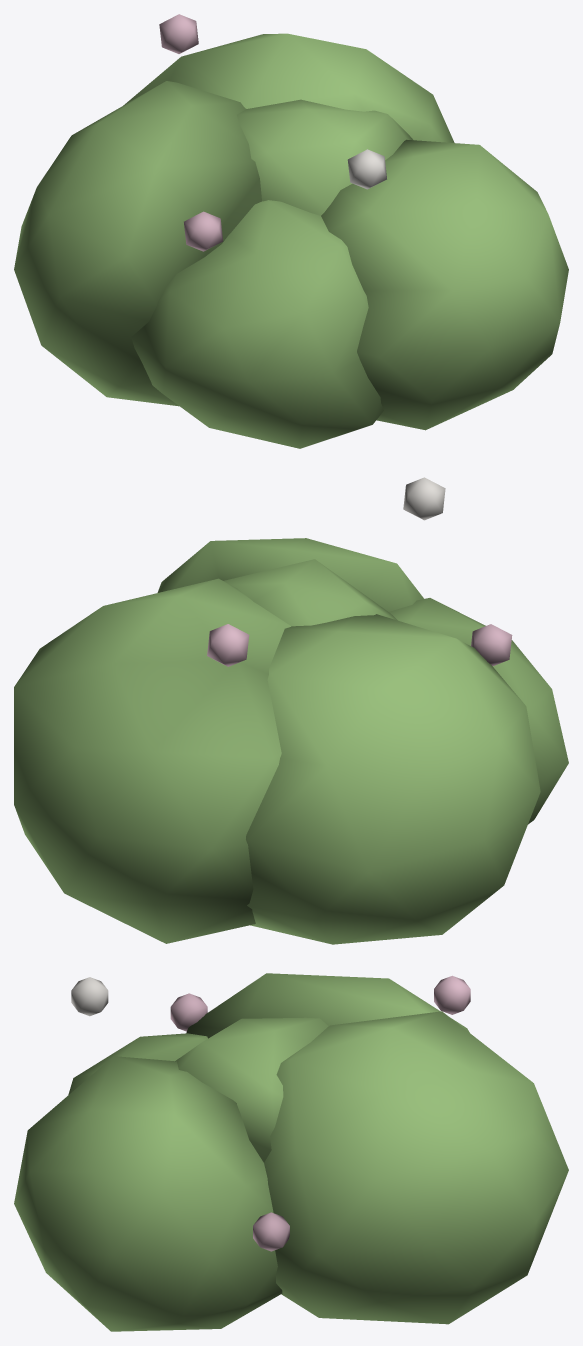
Rendered from prop_bush.glb.
3 views of the same model, one above another, from view 1: azimuth 30°, elevation 25°; view 2: azimuth 150°, elevation 25°; view 3: azimuth 270°, elevation 25° (orthographic). The views are drawn at different scales.
Parts seen in each view (by area): view 1: prop_bush; view 2: prop_bush; view 3: prop_bush.
Part boxes in pixels (x1,y1,x2,y2): prop_bush: [14, 14, 568, 448]; prop_bush: [14, 477, 568, 944]; prop_bush: [14, 973, 568, 1331].
Bounding box in the file's own units: 0.628 × 0.4449 × 0.7172.
